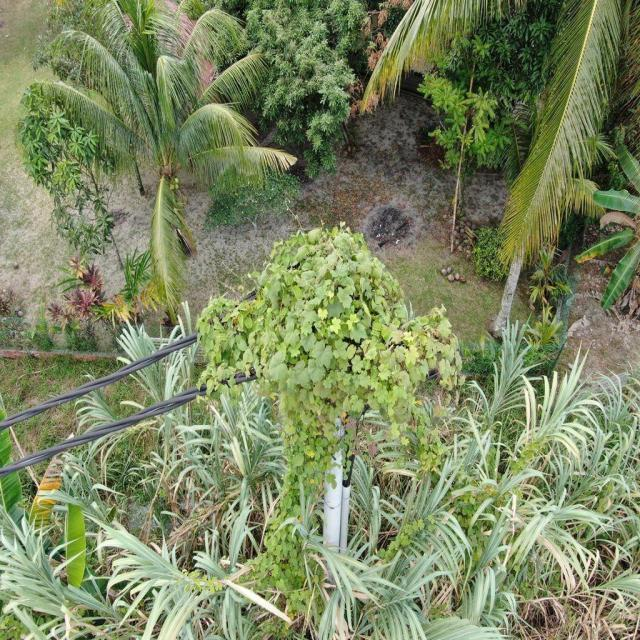critical vegetation: (204, 216, 448, 598)
